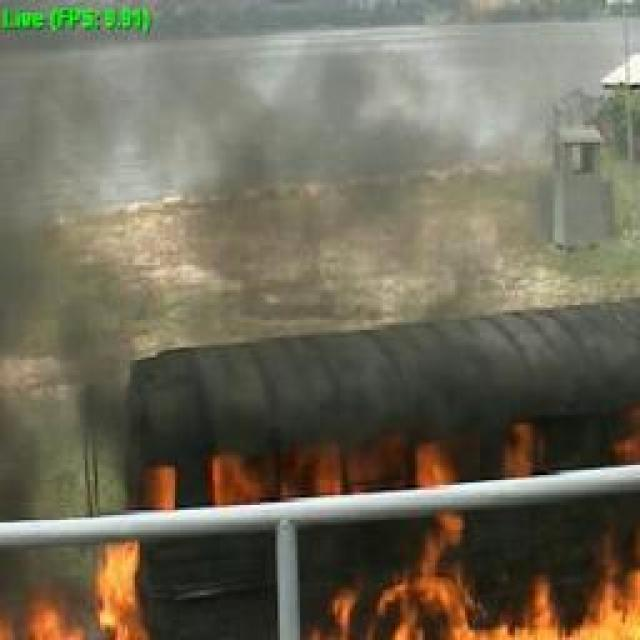Fire: (312, 540, 640, 640), (149, 435, 346, 510), (2, 553, 150, 640), (369, 434, 566, 490)
